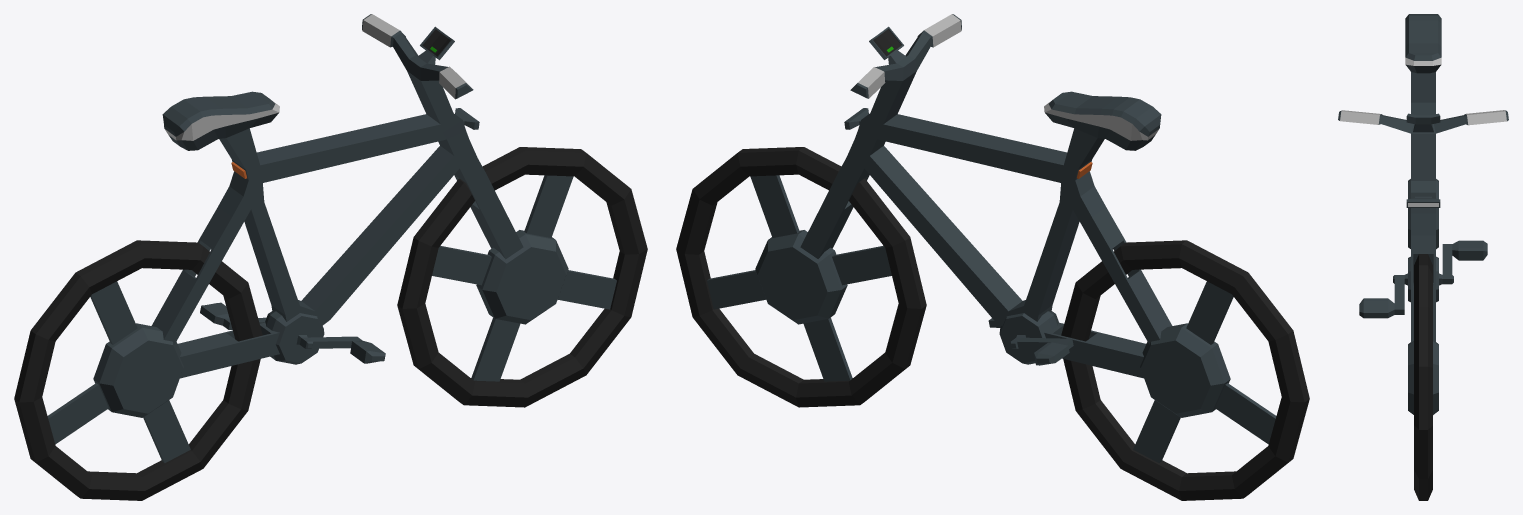
File: BikeV1Dark.fbx
3 renders of one model, left to right at view 1: azimuth 30°, elevation 25°; view 2: azimuth 150°, elevation 25°; view 3: azimuth 270°, elevation 25°, orthographic. The views are drawn at different scales.
Visible parts, largest first — view 1: BikeV1Dark; view 2: BikeV1Dark; view 3: BikeV1Dark.
Boxes of the visible parts, box(x1,y1,x2,y2) form: BikeV1Dark: box(14, 14, 647, 500); BikeV1Dark: box(676, 14, 1309, 500); BikeV1Dark: box(1338, 14, 1508, 500).
Bounding box in the file's own units: 158 × 94.06 × 42.52.
